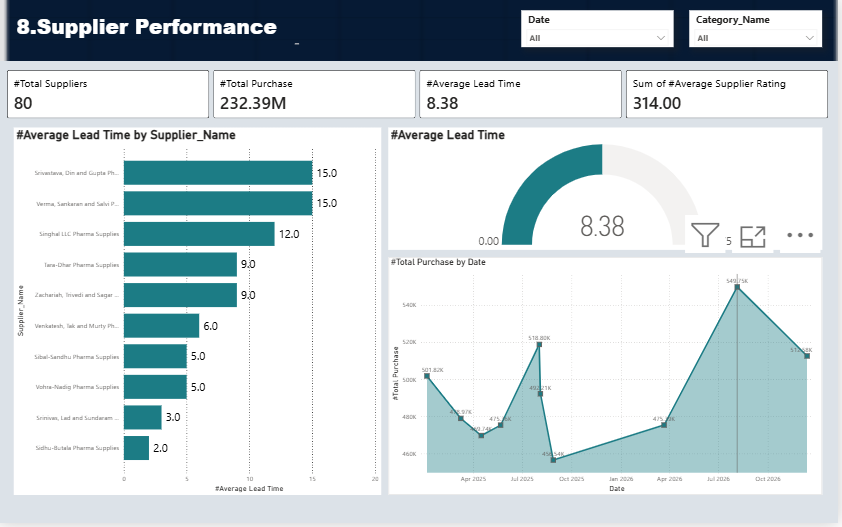

Layout of this report page (visuals, bound fields, positions):
{"tool":"powerbi","page":{"name":"8. Supplier Performance","canvas":[1600,1000],"ordinal":8},"visuals":[{"type":"image","box":[0,0,1600,120],"z":0},{"type":"textbox","title":"8.Supplier Performance","box":[30,26.7,548.3,66.7],"z":1000},{"type":"slicer","fields":{"Values":["Dim_Date_Clean.Date"]},"box":[996.7,23.3,290,70],"z":2000},{"type":"slicer","fields":{"Values":["Dim_Category.Category_Name"]},"box":[1316.7,23.3,253.3,70],"z":3000},{"type":"cardVisual","fields":{"Data":["Fact_Purchase_Clean.#Total Suppliers","Fact_Purchase_Clean.#Total Purchase","Fact_Purchase_Clean.#Average Lead Time","Sum(Dim_Supplier_clean.#Average Supplier Rating)"]},"box":[0,120,1600,126.7],"z":4000},{"type":"clusteredBarChart","fields":{"Category":["Dim_Supplier_clean.Supplier_Name"],"Y":["Fact_Purchase_Clean.#Average Lead Time"]},"box":[30,246.7,700,700],"z":6000},{"type":"gauge","fields":{"Y":["Fact_Purchase_Clean.#Average Lead Time"]},"box":[743.3,246.7,826.7,233.3],"z":7000},{"type":"stackedAreaChart","fields":{"Category":["Fact_Purchase_Clean.Date"],"Y":["Fact_Purchase_Clean.#Total Purchase"]},"box":[743.3,493.3,826.7,453.3],"z":8000}]}

Visuals, with their boxes in screenshot pixels (x1, y1, x2, y2), scaled from the page's 1600x1000 canvas onto the 842x527 screenshot:
image: {"x1": 0, "y1": 0, "x2": 841, "y2": 63}
"8.Supplier Performance" textbox: {"x1": 16, "y1": 14, "x2": 304, "y2": 49}
slicer - Dim_Date_Clean.Date: {"x1": 525, "y1": 12, "x2": 677, "y2": 49}
slicer - Dim_Category.Category_Name: {"x1": 693, "y1": 12, "x2": 826, "y2": 49}
cardVisual - Fact_Purchase_Clean.#Total Suppliers x Fact_Purchase_Clean.#Total Purchase: {"x1": 0, "y1": 63, "x2": 841, "y2": 130}
clusteredBarChart - Dim_Supplier_clean.Supplier_Name x Fact_Purchase_Clean.#Average Lead Time: {"x1": 16, "y1": 130, "x2": 384, "y2": 499}
gauge - Fact_Purchase_Clean.#Average Lead Time: {"x1": 391, "y1": 130, "x2": 826, "y2": 253}
stackedAreaChart - Fact_Purchase_Clean.Date x Fact_Purchase_Clean.#Total Purchase: {"x1": 391, "y1": 260, "x2": 826, "y2": 499}
